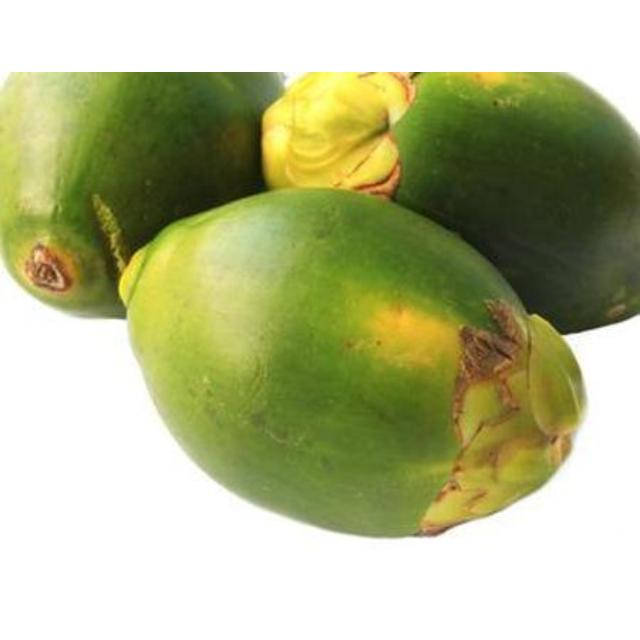good: (118, 189, 586, 540), (0, 72, 292, 321), (393, 72, 639, 337)
